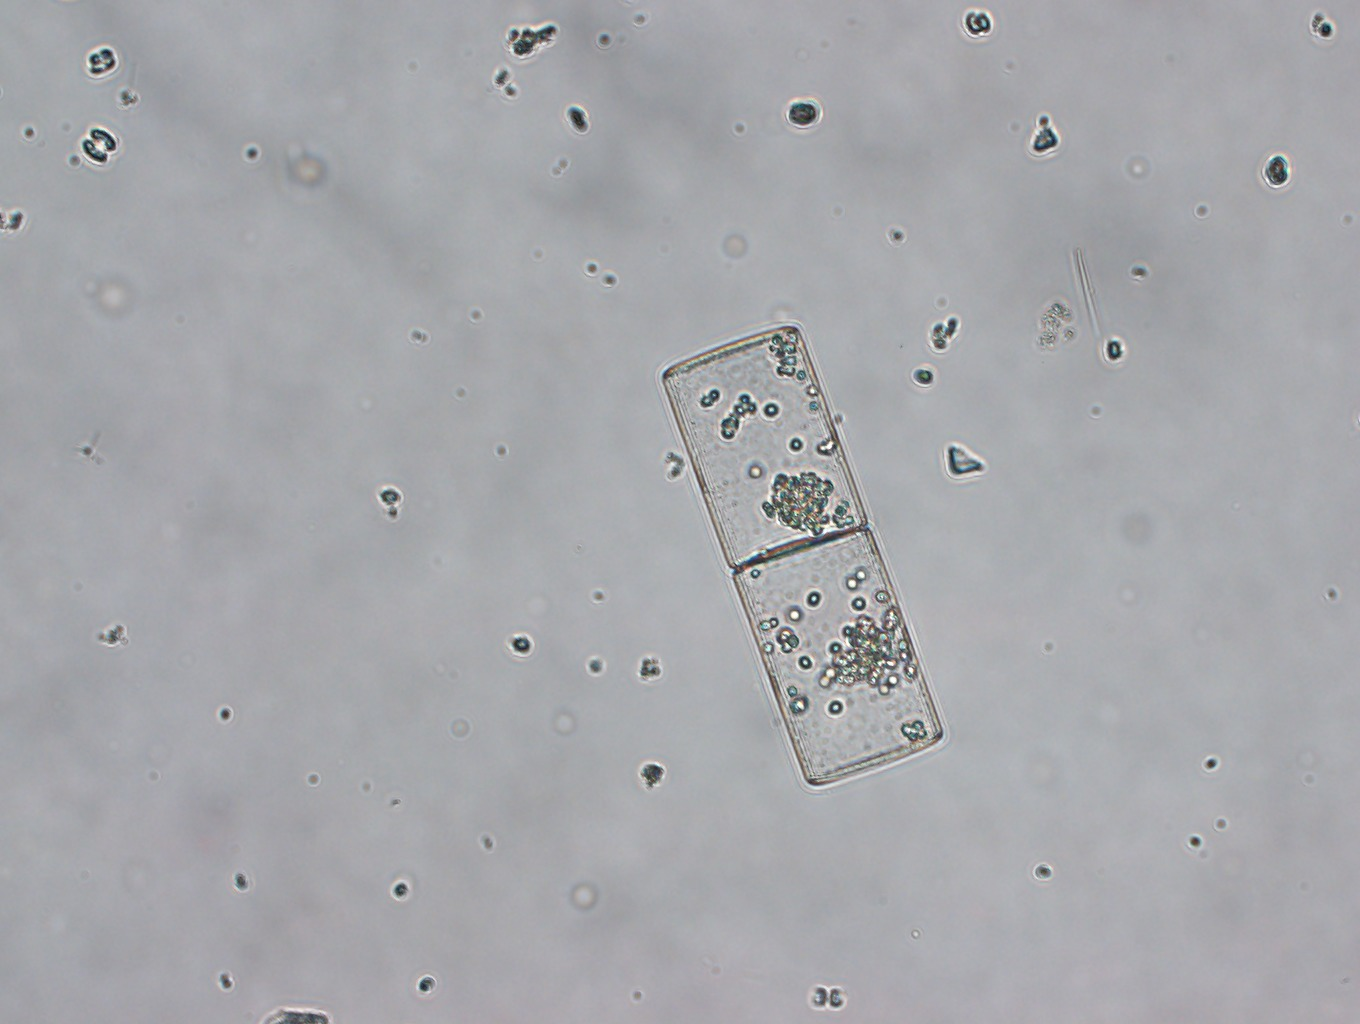guinardia flaccida: (655, 316, 949, 794)
